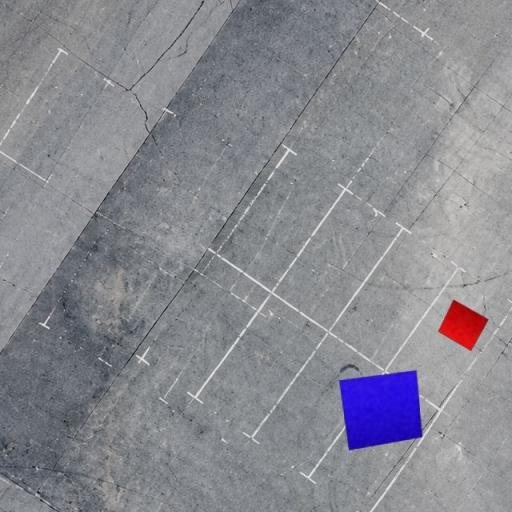BLUE_SQUARE: (339, 370, 423, 450)
RED_SQUARE: (438, 299, 488, 352)
